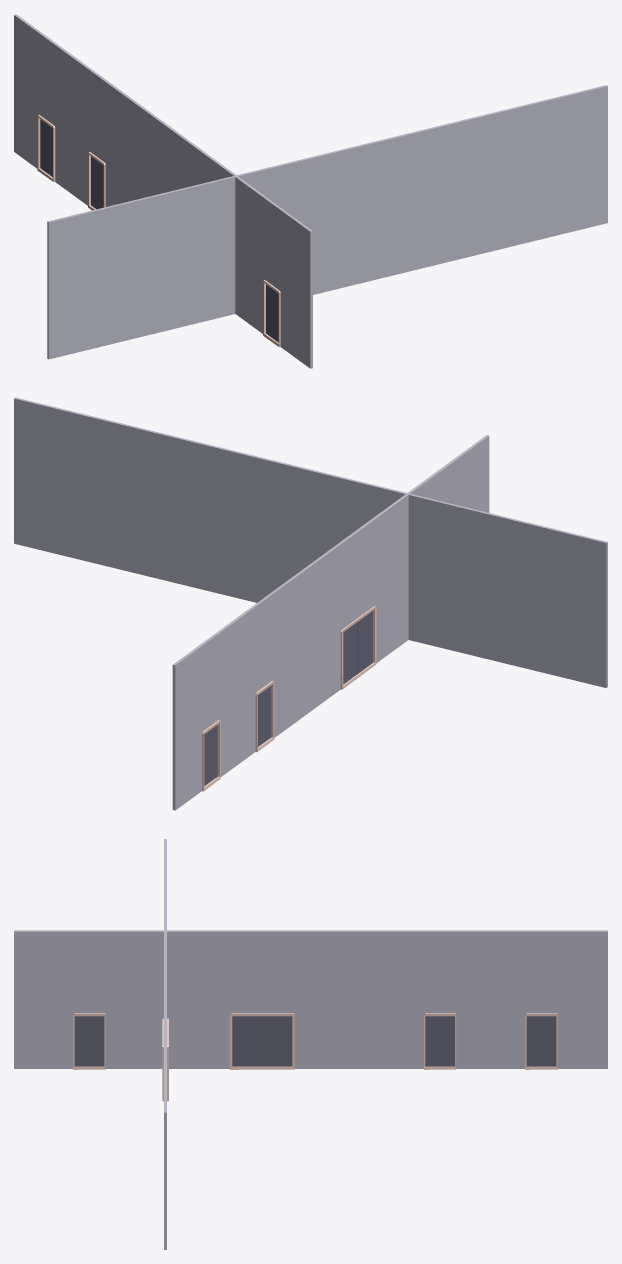
The model's file is walls_doors.fbx.
The picture shows the model from 3 angles, top to bottom: view 1: azimuth 30°, elevation 25°; view 2: azimuth 150°, elevation 25°; view 3: azimuth 270°, elevation 25°; orthographic projection. The views are drawn at different scales.
Visible parts, largest first — view 1: Plane.006, Plane.030, Plane.042, Cube, Cube.002, Cube.001, Plane.005; view 2: Plane.006, Plane.030, Plane.042, Cube.007, Plane.007, Cube.005, Cube.002, Cube.001; view 3: Plane.030, Plane.042, Cube, Cube.002, Cube.005, Cube.007, Cube.001, Plane.006, Plane.009.
Boxes of the visible parts, <box> form: Plane.006: <box>47,85,607,359</box>; Plane.030: <box>14,14,236,208</box>; Plane.042: <box>235,176,312,368</box>; Cube: <box>266,284,278,342</box>; Cube.002: <box>40,119,52,176</box>; Cube.001: <box>91,156,103,209</box>; Plane.005: <box>37,115,55,181</box>; Plane.006: <box>14,397,607,688</box>; Plane.030: <box>172,493,408,810</box>; Plane.042: <box>408,435,489,512</box>; Cube.007: <box>357,611,372,673</box>; Plane.007: <box>340,606,376,689</box>; Cube.005: <box>343,622,356,683</box>; Cube.002: <box>204,725,217,785</box>; Cube.001: <box>258,686,271,746</box>; Plane.030: <box>165,930,607,1068</box>; Plane.042: <box>14,930,163,1068</box>; Cube: <box>74,1016,104,1066</box>; Cube.002: <box>526,1016,556,1066</box>; Cube.005: <box>262,1016,292,1066</box>; Cube.007: <box>232,1016,262,1066</box>; Cube.001: <box>425,1016,454,1066</box>; Plane.006: <box>164,839,166,1249</box>; Plane.009: <box>229,1013,294,1069</box>.
Size of the model in its own units: 2537 by 594 by 2329.
